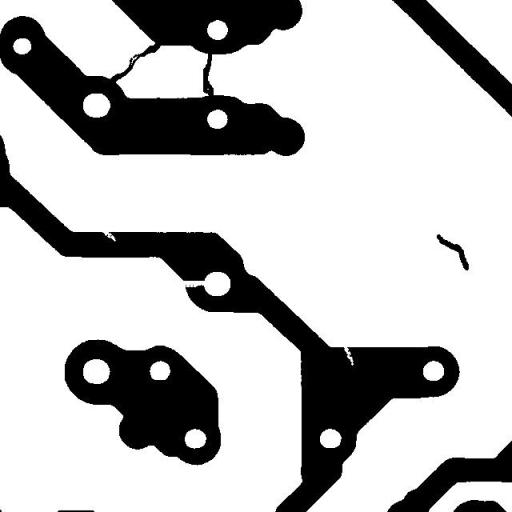copper: (429, 226, 476, 278)
mousebite: (334, 334, 360, 373), (91, 221, 123, 249)
open: (174, 273, 217, 294)
short: (102, 34, 169, 90), (195, 44, 221, 106)
